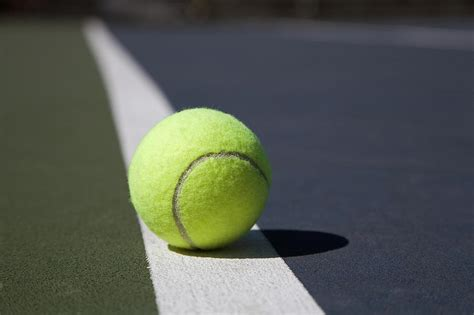tennis_ball: (127, 106, 271, 251)
